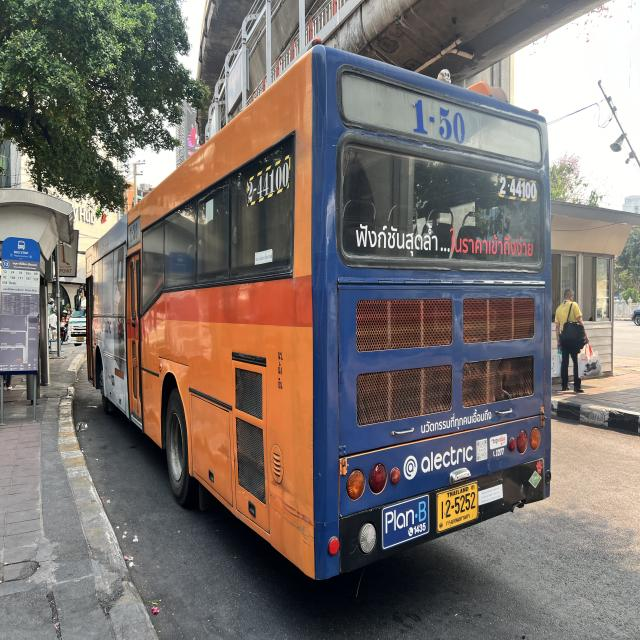BMTA-bus: (87, 46, 553, 586)
Bus-Line-Number: (401, 89, 478, 152)
